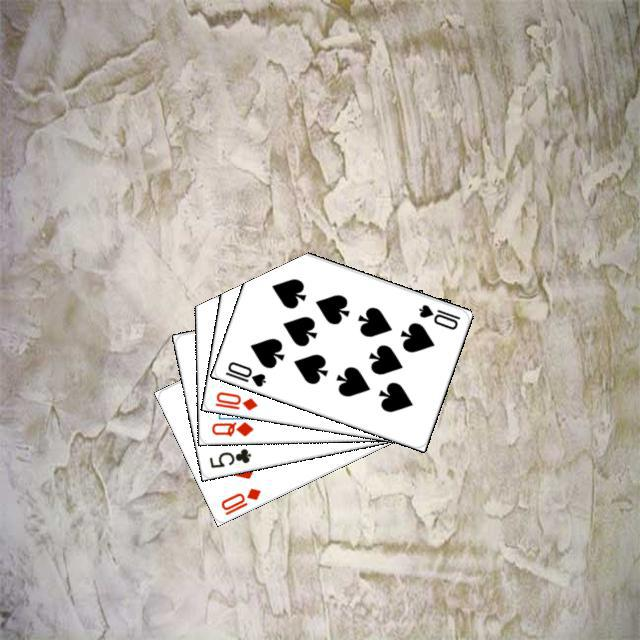10d: (216, 483, 263, 517), (210, 387, 259, 412)
10s: (220, 356, 268, 389), (414, 299, 462, 331)
5c: (204, 443, 253, 470)
Qd: (207, 417, 255, 438)
